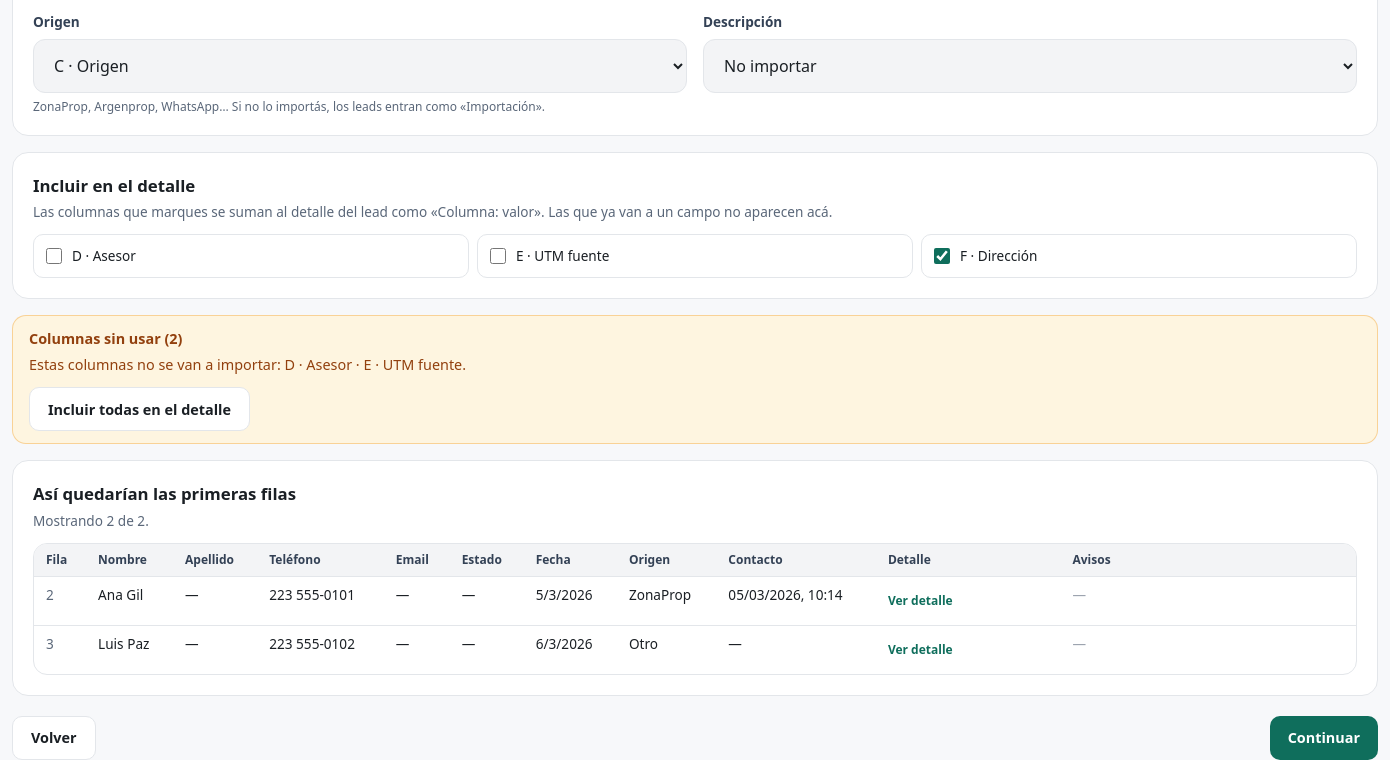
Scenario: PasoColumnas: columnas sin usar › "Incluir todas en el detalle" las marca y el aviso desaparece
(page scrolled)
Click the button "Incluir todas en el detalle": point(140, 409) [29,387,250,431]
(page scrolled)
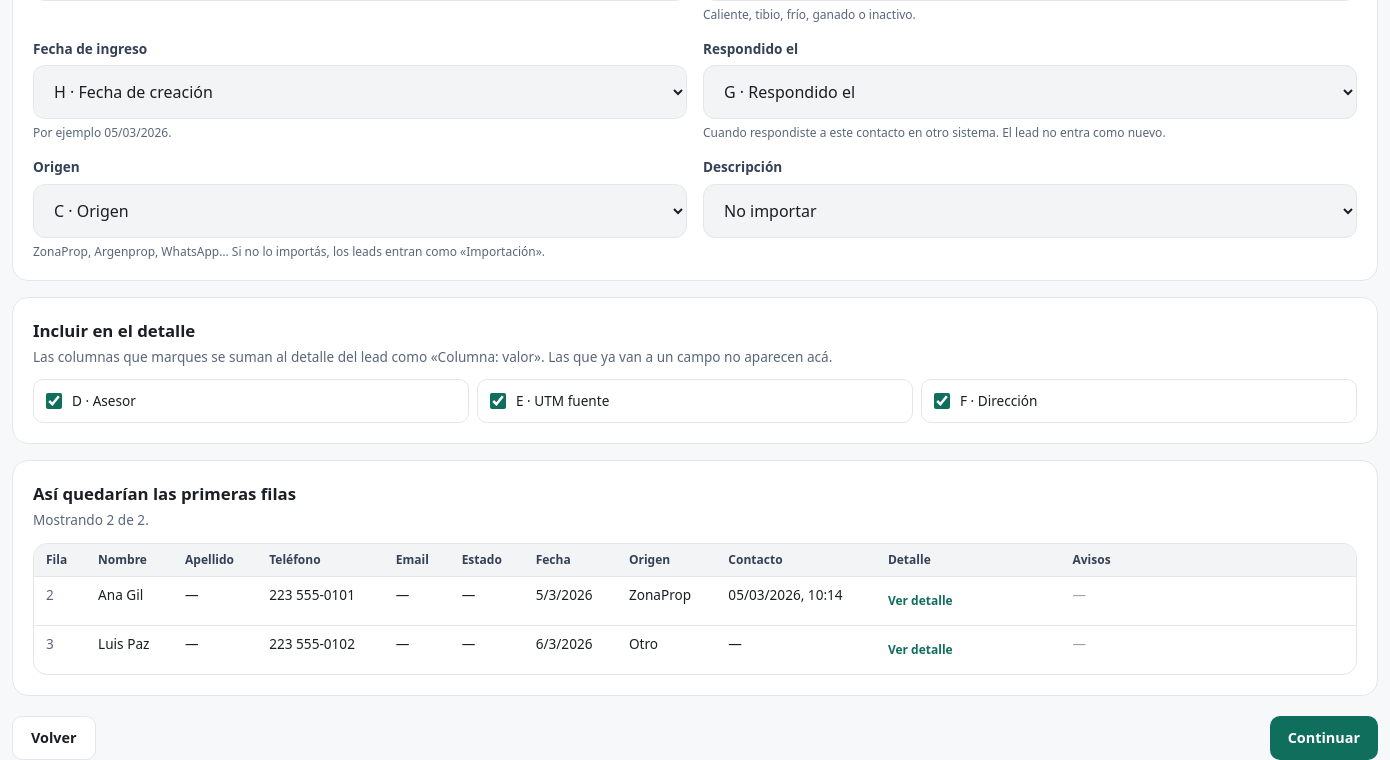
Check: the text "Columnas sin usar" is gone
Check: the checkbox labelled "D · Asesor" is checked, box [46,393,62,409]
Check: the checkbox labelled "E · UTM fuente" is checked, box [490,393,506,409]
